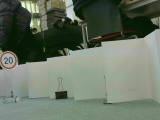speed_20: (1, 50, 19, 71)
